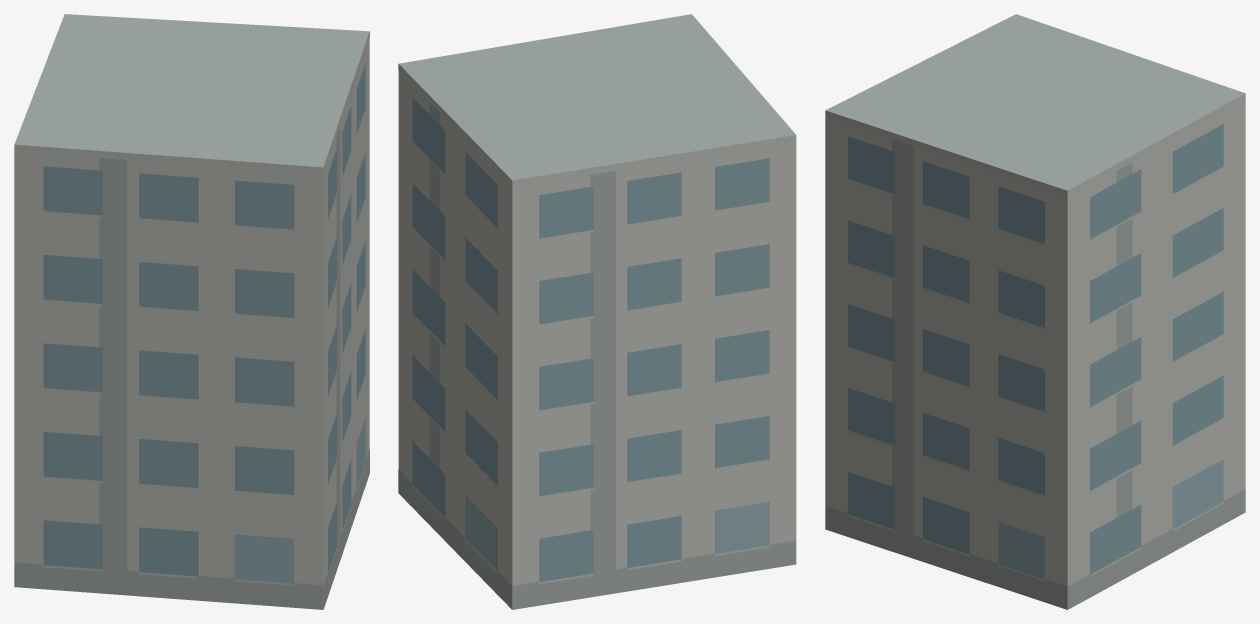
Rendered from residential-996ea5c2-c1ed-463e-8132-2af889e8eb29.glb.
3 views of the same model, side by side, from view 1: azimuth 30°, elevation 25°; view 2: azimuth 150°, elevation 25°; view 3: azimuth 270°, elevation 25° (orthographic). The views are drawn at different scales.
Visible parts, largest first — view 1: residential-996ea5c2-c1ed-463e-8132-2af889e8eb29.tmp; view 2: residential-996ea5c2-c1ed-463e-8132-2af889e8eb29.tmp; view 3: residential-996ea5c2-c1ed-463e-8132-2af889e8eb29.tmp.
Part boxes in pixels (x1,y1,x2,y2): residential-996ea5c2-c1ed-463e-8132-2af889e8eb29.tmp: [14, 14, 369, 609]; residential-996ea5c2-c1ed-463e-8132-2af889e8eb29.tmp: [398, 14, 796, 609]; residential-996ea5c2-c1ed-463e-8132-2af889e8eb29.tmp: [825, 14, 1245, 609].
Bounding box in the file's own units: 13.81 × 15.25 × 13.87.
